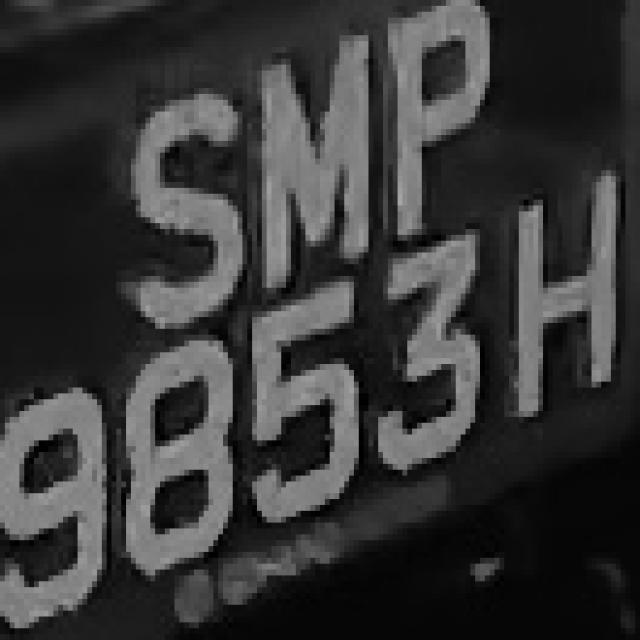3: (364, 229, 489, 487)
5: (238, 264, 368, 534)
8: (116, 317, 248, 581)
9: (15, 364, 126, 628)
H: (494, 176, 626, 423)
M: (238, 29, 378, 294)
P: (388, 18, 499, 234)
S: (116, 70, 248, 329)
